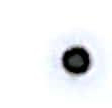cancer: (47, 28, 104, 91)
